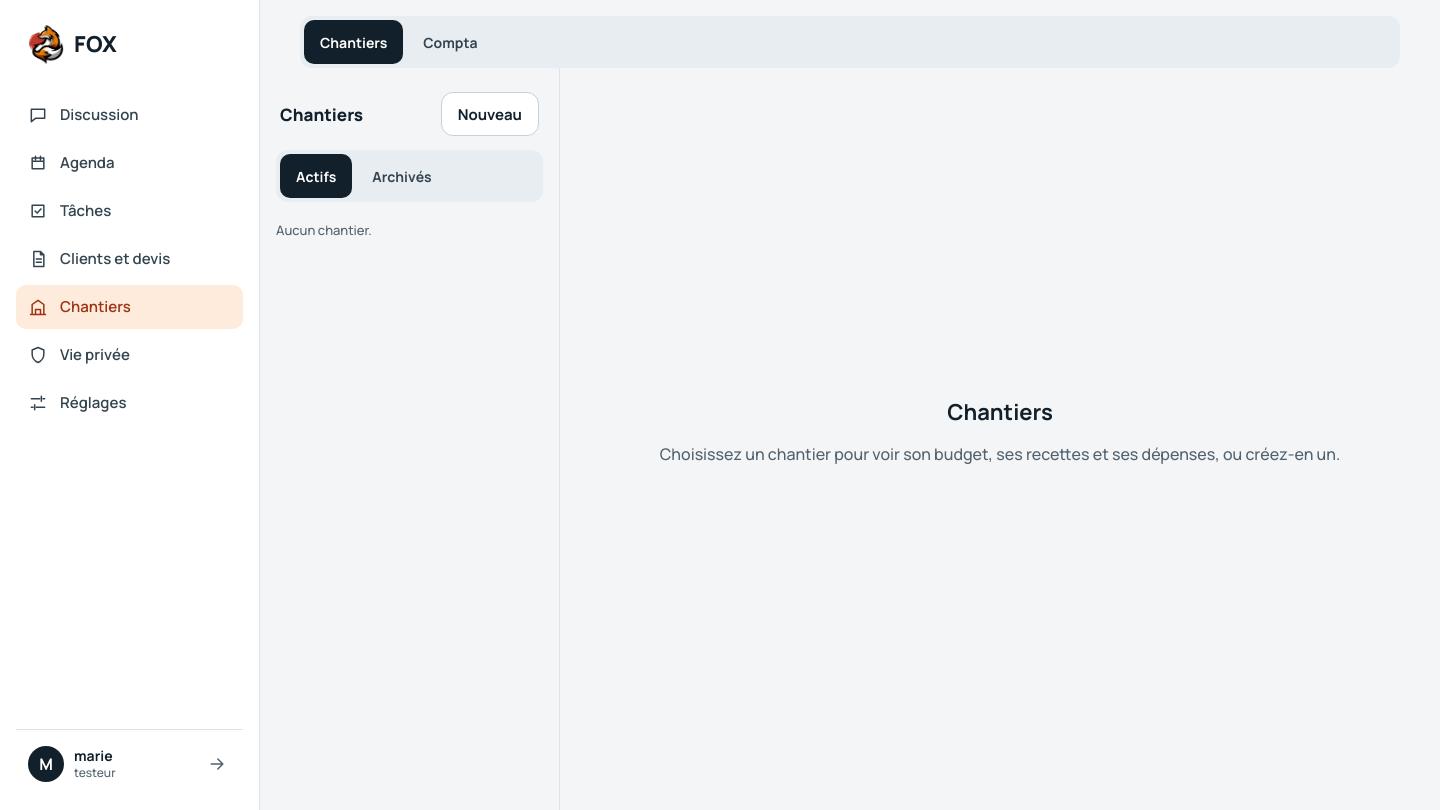
Chantiers › affiche l'erreur du serveur à la création
The image size is (1440, 810).
Click the button "Nouveau" at (490, 114), box left=441, top=92, right=539, bottom=136
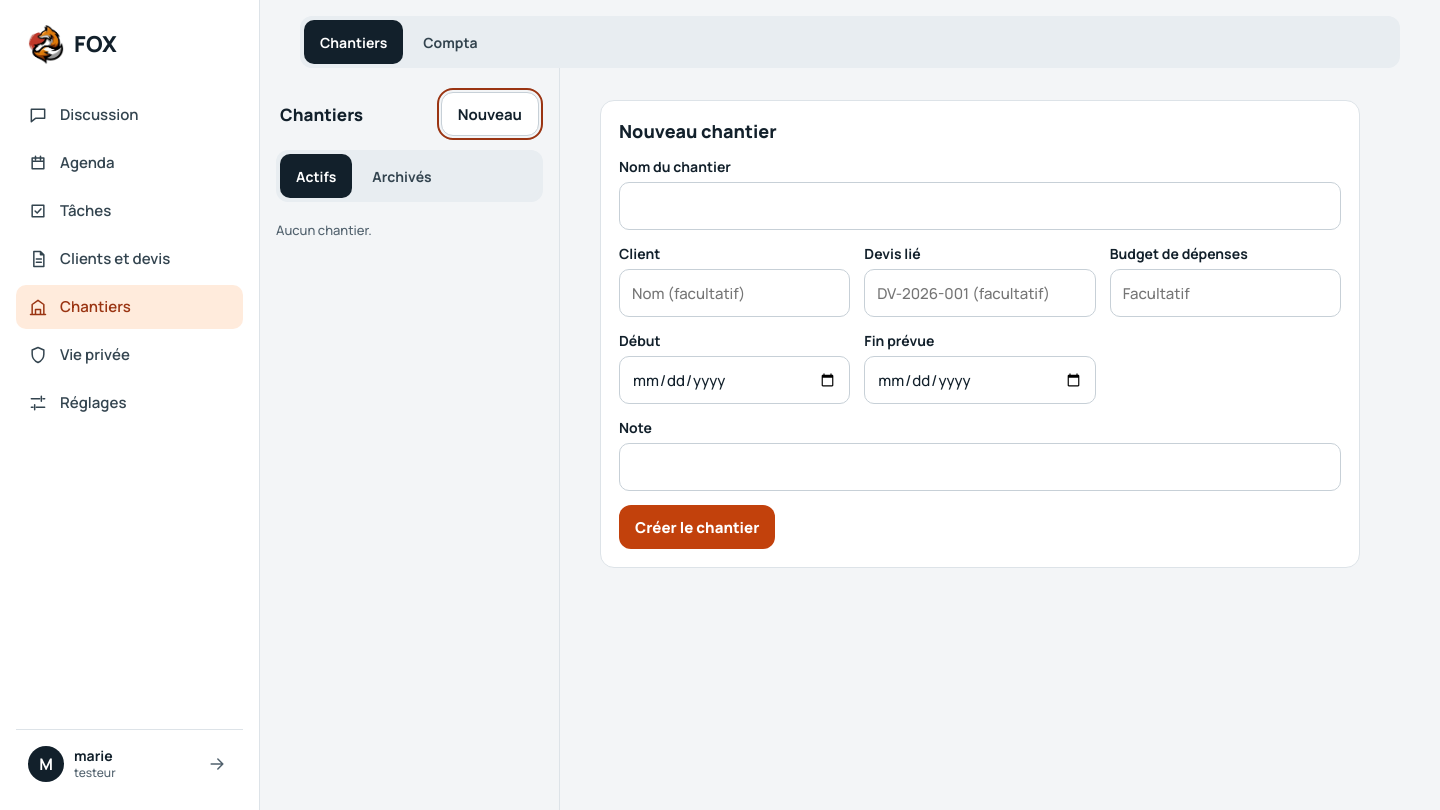
Type "Villa Nkolo" into the field labelled "Nom du chantier" at (980, 206), box left=619, top=182, right=1341, bottom=230
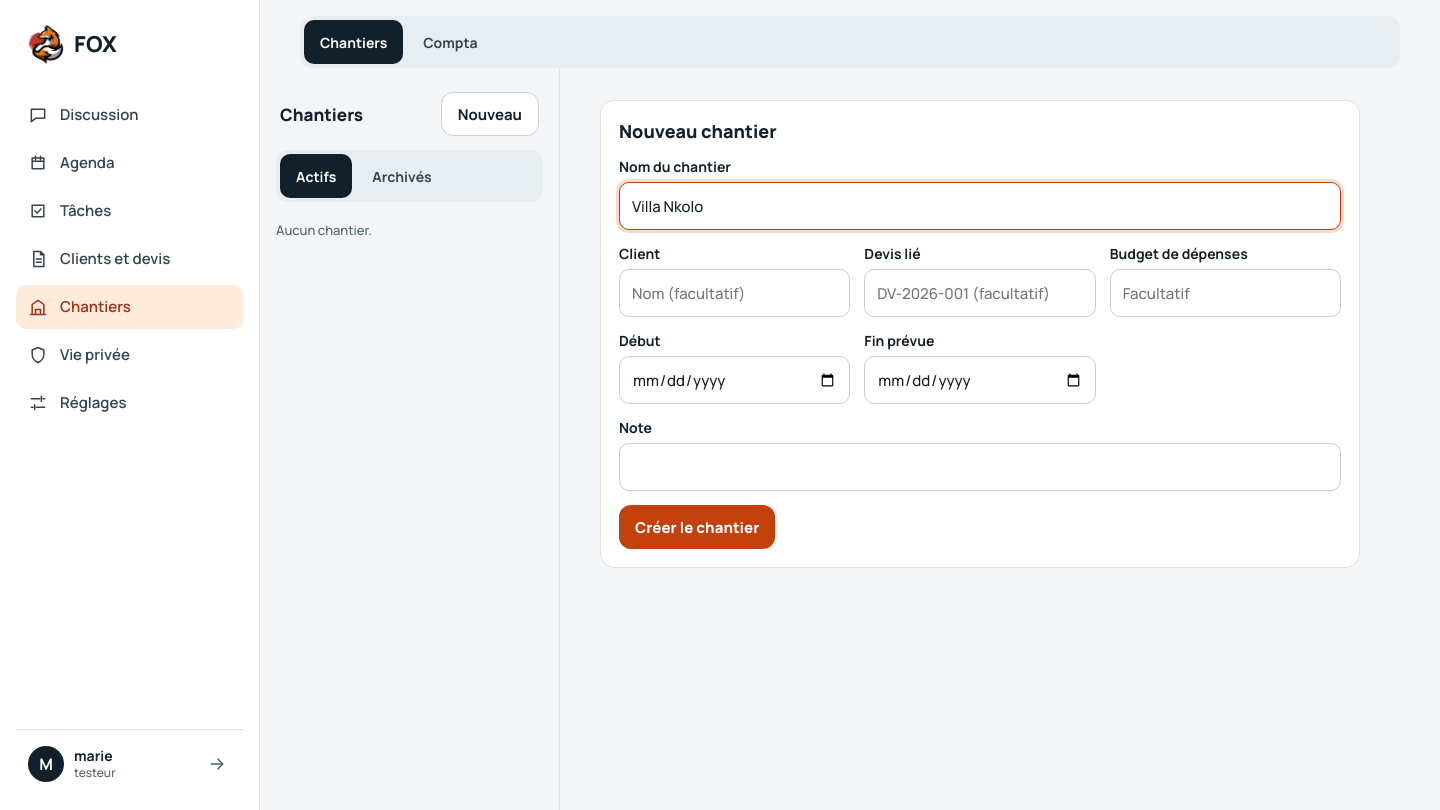
Click the button "Créer le chantier" at (697, 527), box left=619, top=505, right=775, bottom=549
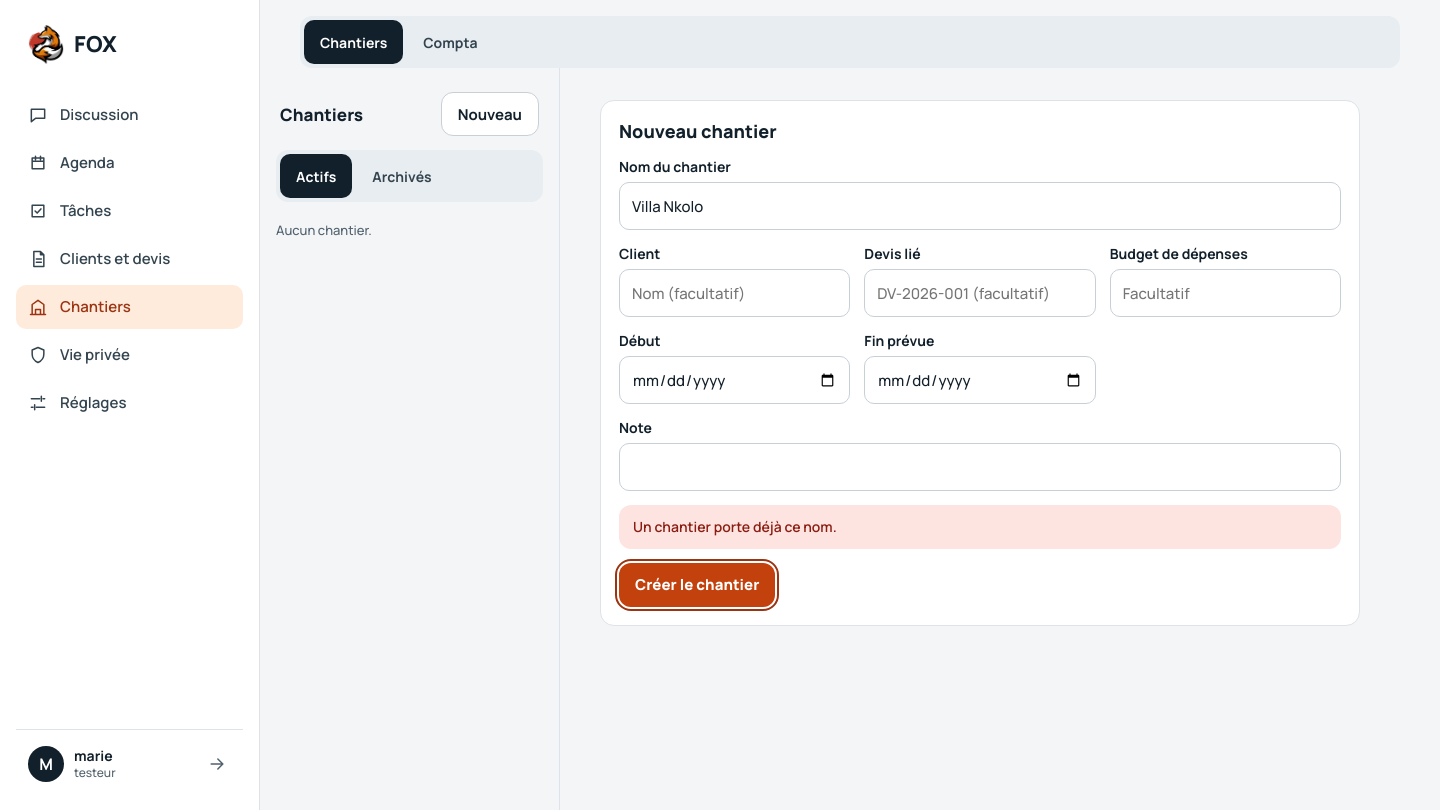
Expected: the message reads "Un chantier porte déjà ce nom.", left=633, top=517, right=837, bottom=536
